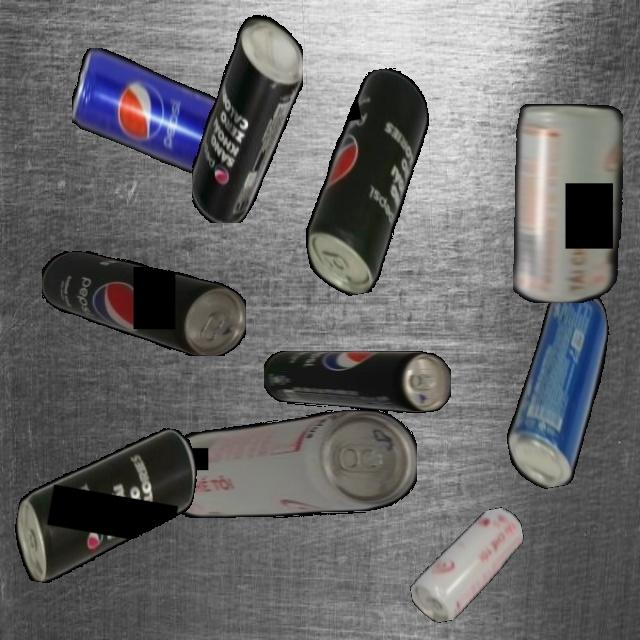debris: (279, 63, 457, 301), (7, 406, 204, 605), (483, 281, 634, 493), (157, 410, 417, 518), (191, 8, 303, 223), (513, 103, 623, 303), (41, 251, 246, 356), (71, 47, 219, 173), (400, 505, 535, 626), (263, 351, 451, 413)
